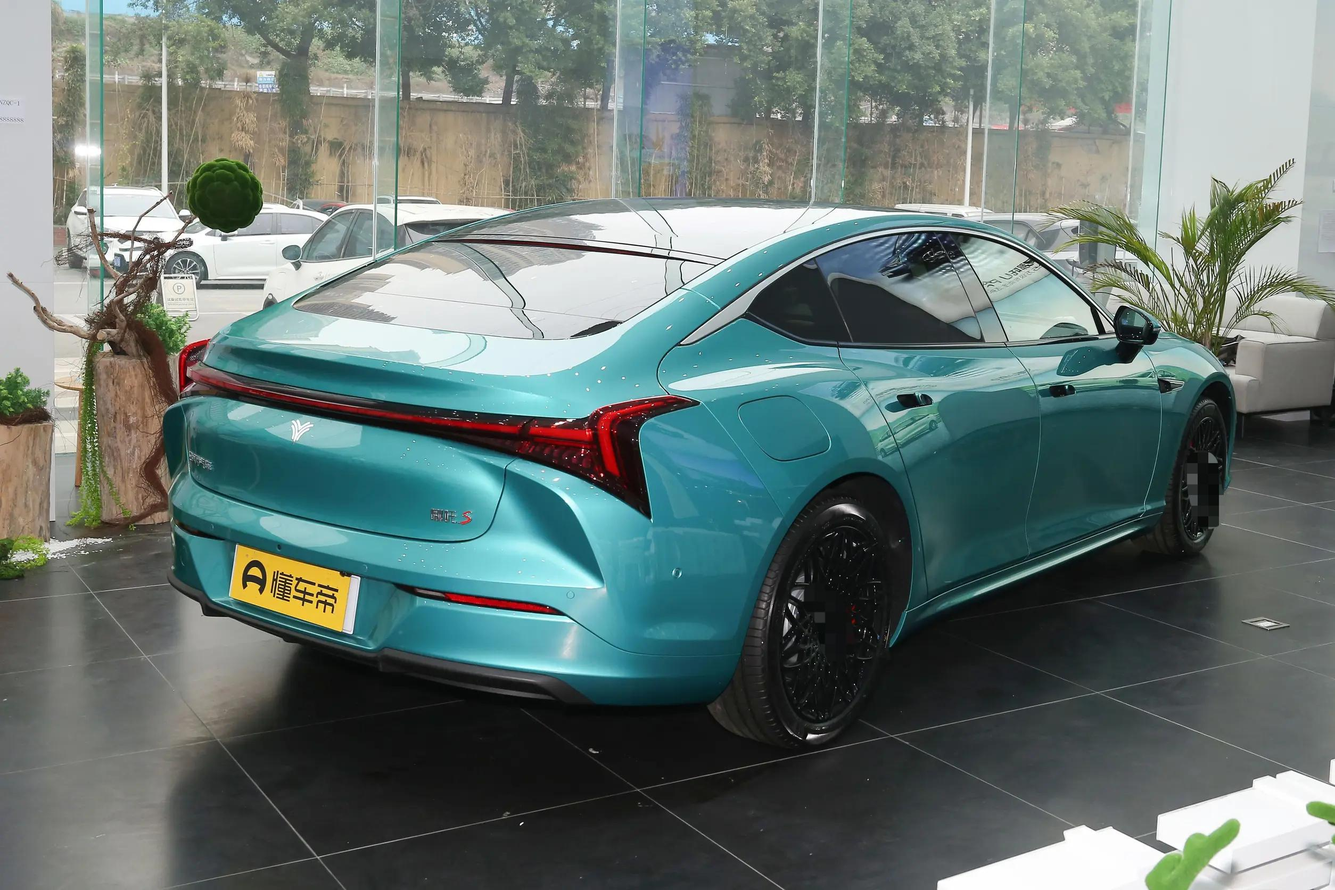NETA: (290, 419, 315, 447)
